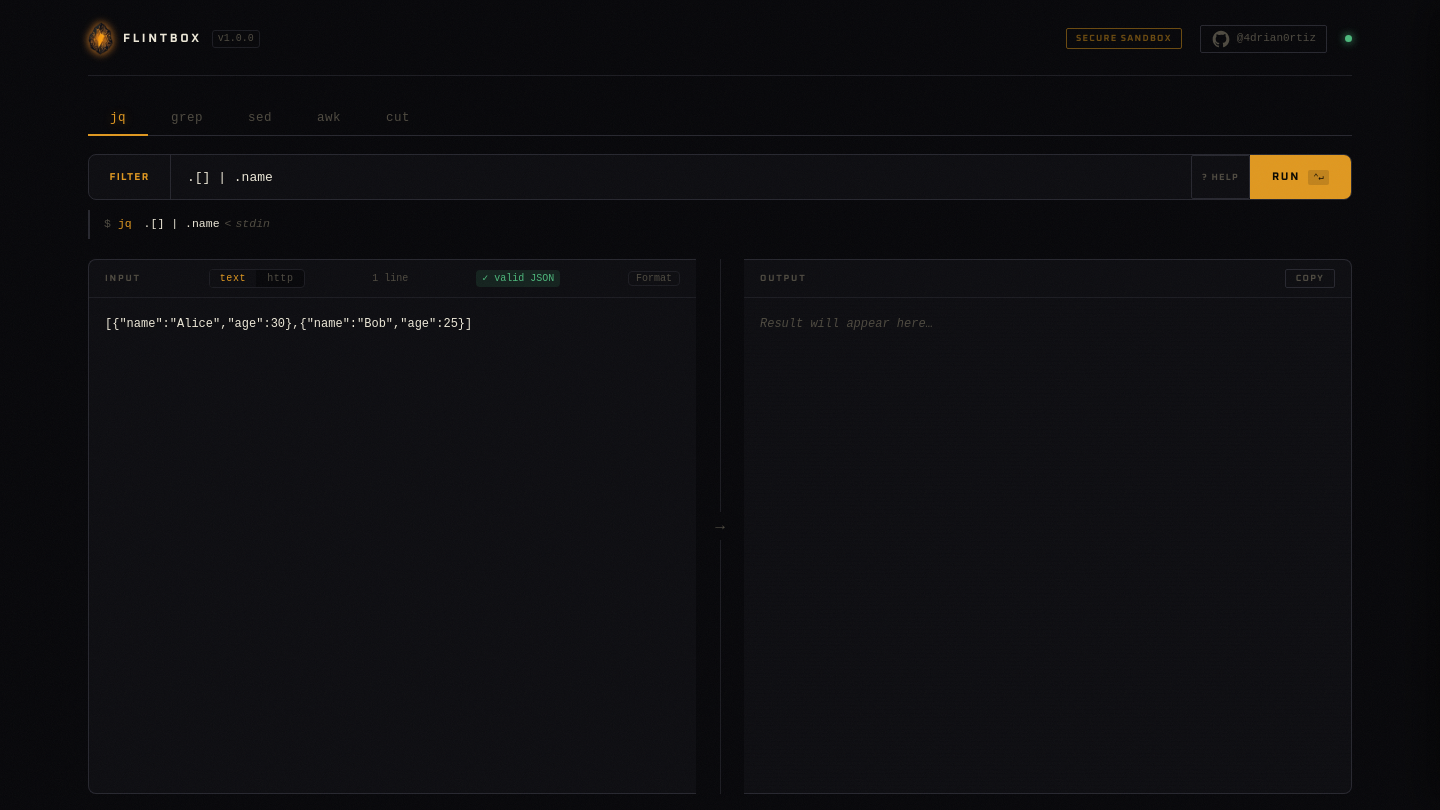
it: <App /> container › switching tool updates params, label and command preview
The image size is (1440, 810).
Click the tab "grep": [187, 119] box top-left (149, 102), bottom-right (225, 136)
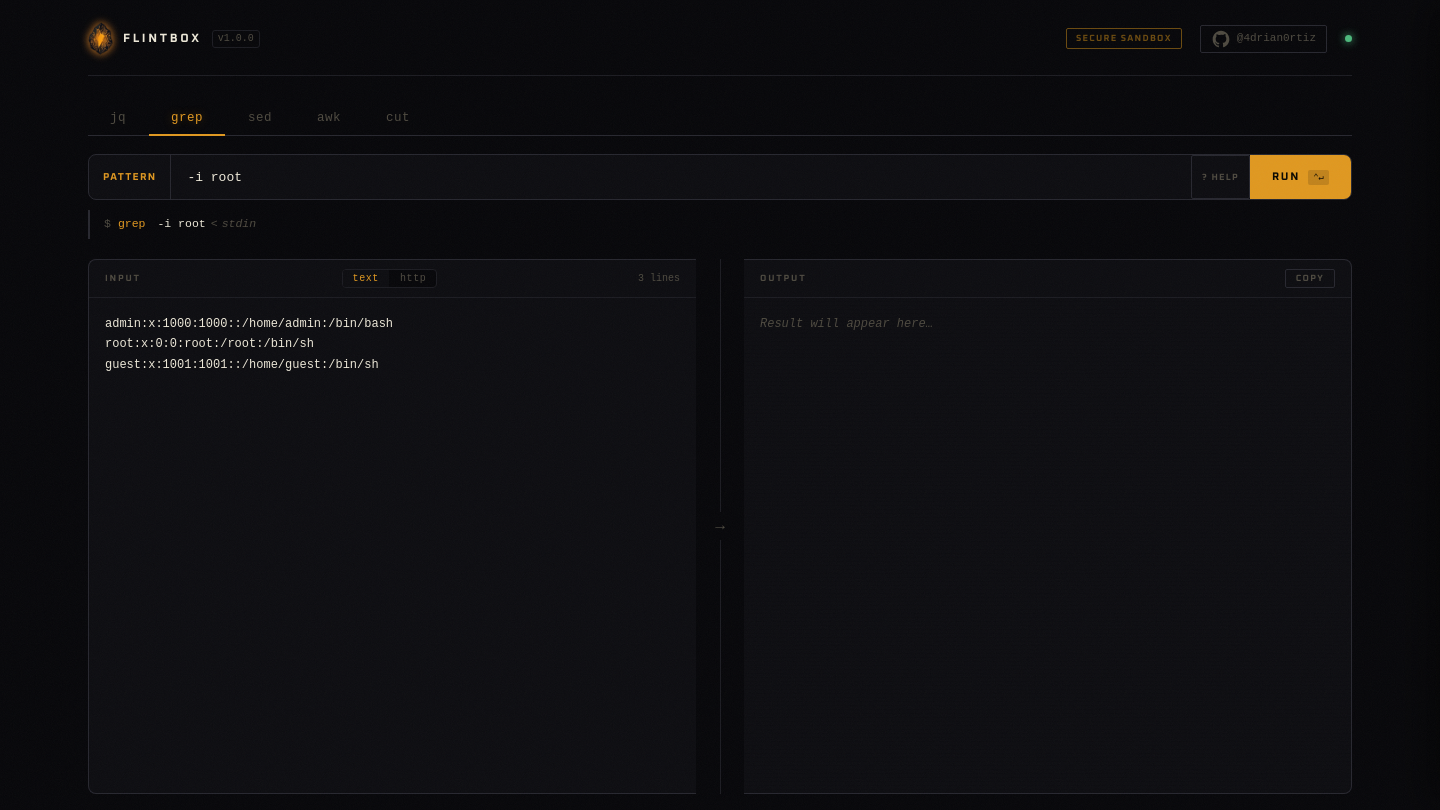
Expected: the field named "Command parameters" holds "-i root", top-left (171, 155), bottom-right (1191, 199)
Expected: the element named "Assembled command preview" shows "grep", top-left (118, 217), bottom-right (146, 230)
Expected: the element named "Assembled command preview" shows "-i root", top-left (150, 217), bottom-right (206, 230)
